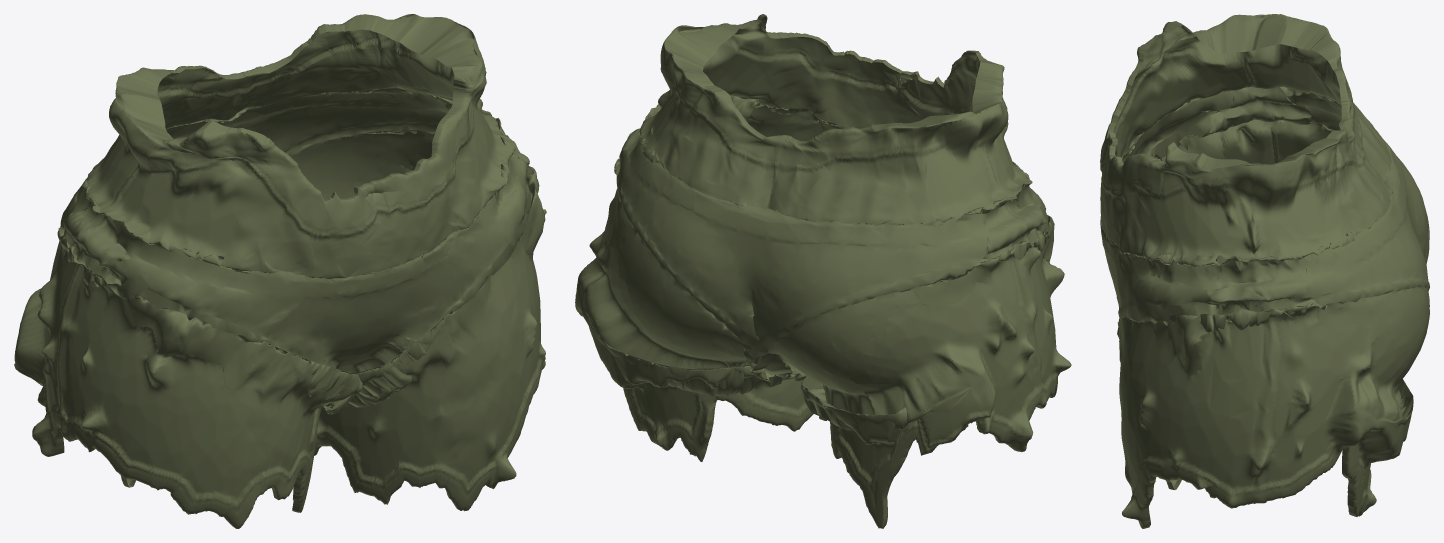
The model's file is bottom_f_shorts.glb.
3 views of the same model, side by side, from view 1: azimuth 30°, elevation 25°; view 2: azimuth 150°, elevation 25°; view 3: azimuth 270°, elevation 25° (orthographic). The views are drawn at different scales.
Parts seen in each view (by area): view 1: bottom_f_shorts; view 2: bottom_f_shorts; view 3: bottom_f_shorts.
Part boxes in pixels (x1=…): bottom_f_shorts: x1=14, y1=14, x2=546, y2=528; bottom_f_shorts: x1=575, y1=14, x2=1071, y2=528; bottom_f_shorts: x1=1100, y1=14, x2=1429, y2=528.
Bounding box in the file's own units: 0.5427 × 0.4688 × 0.3464.
1 material, 1 textured.
